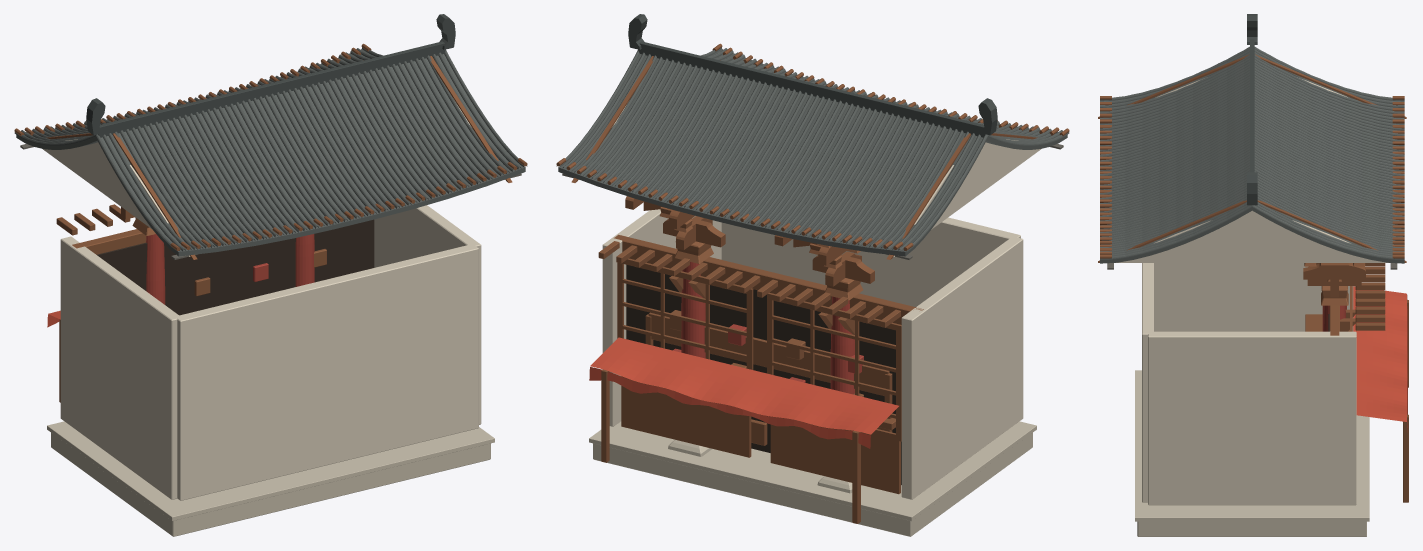
The model's file is shop-tall-shijing.glb.
3 views of the same model, side by side, from view 1: azimuth 30°, elevation 25°; view 2: azimuth 150°, elevation 25°; view 3: azimuth 270°, elevation 25° (orthographic). The views are drawn at different scales.
Visible parts, largest first — view 1: shop_tall_shijing; view 2: shop_tall_shijing; view 3: shop_tall_shijing.
Boxes of the visible parts, bbox=[...] form: shop_tall_shijing: bbox=[14, 14, 527, 536]; shop_tall_shijing: bbox=[556, 14, 1069, 536]; shop_tall_shijing: bbox=[1098, 14, 1408, 536].
Bounding box in the file's own units: 6.64 × 6.89 × 5.24.
